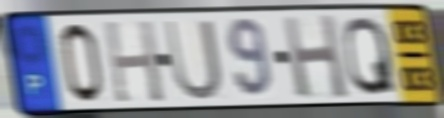0: (59, 21, 105, 105)
9: (224, 15, 274, 102)
H: (280, 11, 351, 101), (101, 18, 167, 106)
Q: (341, 13, 399, 98)
U: (162, 17, 225, 103)
